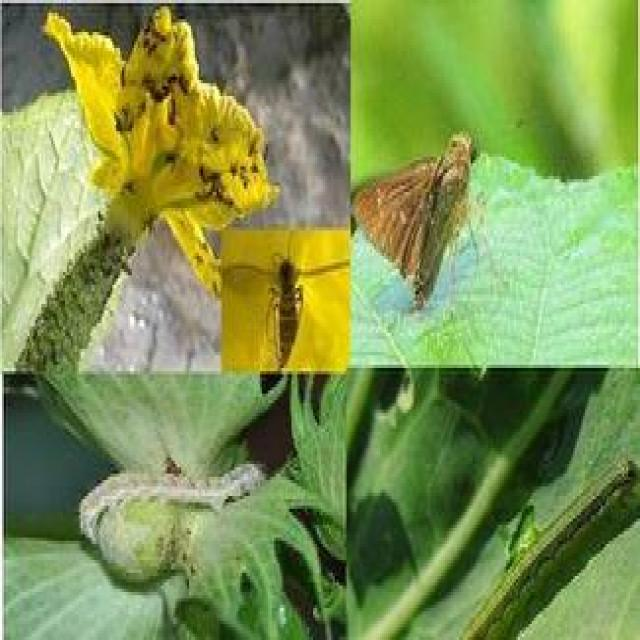BeetArmyWorm-Adult-: (347, 116, 488, 306)
BeetArmyWorm-Larva-: (70, 459, 274, 556)
